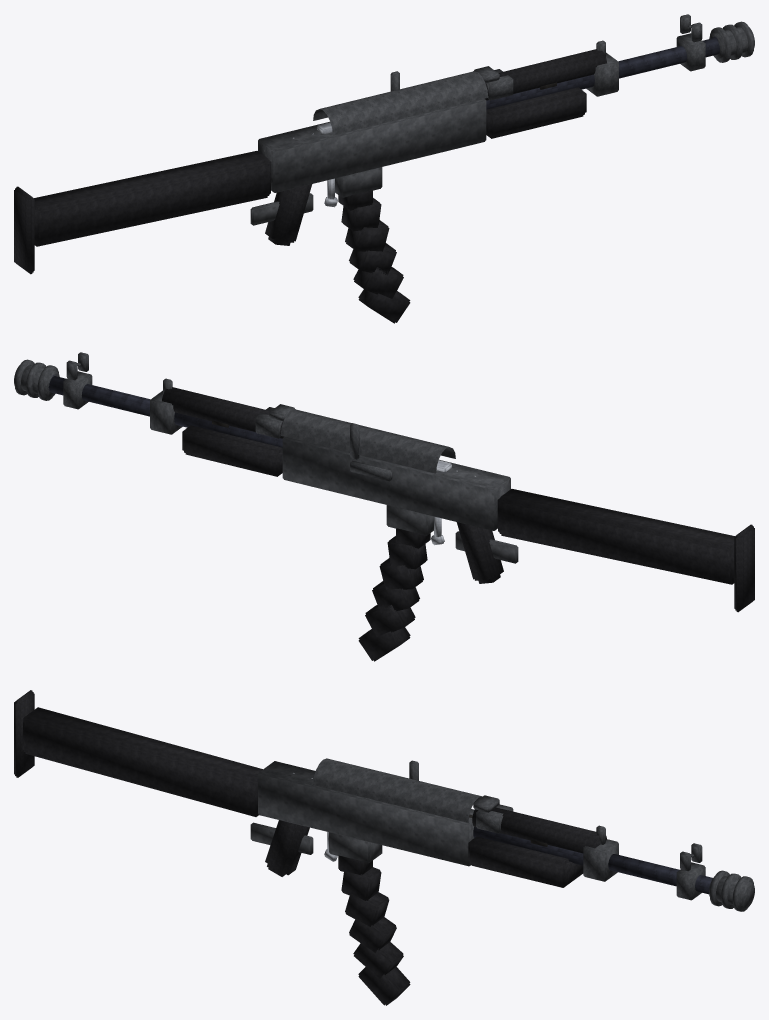
The picture shows the model from 3 angles, top to bottom: view 1: azimuth 30°, elevation 25°; view 2: azimuth 150°, elevation 25°; view 3: azimuth 330°, elevation 25°; orthographic projection.
Parts seen in each view (by area): view 1: Outer_Shell, Inner_Part_14, Inner_Part_1, Inner_Part_2, Inner_Part_8, Inner_Part_12, Inner_Part_7, Inner_Part_16, Inner_Part_15, Inner_Part_11, Inner_Part_10, Inner_Part_9 (+1 smaller); view 2: Inner_Part_14, Outer_Shell, Inner_Part_1, Inner_Part_2, Inner_Part_8, Inner_Part_12, Inner_Part_7, Inner_Part_16, Inner_Part_15, Inner_Part_11, Inner_Part_10, Inner_Part_9 (+2 smaller); view 3: Outer_Shell, Inner_Part_14, Inner_Part_1, Inner_Part_2, Inner_Part_8, Inner_Part_12, Inner_Part_7, Inner_Part_16, Inner_Part_11, Inner_Part_9, Inner_Part_10, Inner_Part_15 (+1 smaller).
Boxes of the visible parts, box(x1,y1,x2,y2) form: Outer_Shell: box(250, 98, 486, 225); Inner_Part_14: box(34, 151, 271, 246); Inner_Part_1: box(338, 190, 410, 323); Inner_Part_2: box(313, 71, 488, 135); Inner_Part_8: box(486, 87, 586, 138); Inner_Part_12: box(486, 36, 719, 109); Inner_Part_7: box(485, 49, 606, 100); Inner_Part_16: box(265, 184, 312, 245); Inner_Part_15: box(14, 186, 34, 274); Inner_Part_11: box(709, 21, 754, 62); Inner_Part_10: box(676, 14, 705, 71); Inner_Part_9: box(586, 40, 618, 96); Inner_Part_14: box(497, 489, 734, 584); Outer_Shell: box(282, 436, 518, 563); Inner_Part_1: box(358, 528, 430, 661); Inner_Part_2: box(280, 409, 455, 473); Inner_Part_8: box(182, 425, 282, 476); Inner_Part_12: box(48, 374, 282, 447); Inner_Part_7: box(162, 387, 283, 438); Inner_Part_16: box(456, 522, 503, 583); Inner_Part_15: box(734, 524, 754, 612); Inner_Part_11: box(14, 359, 59, 400); Inner_Part_10: box(63, 352, 92, 409); Inner_Part_9: box(150, 378, 182, 434); Outer_Shell: box(250, 761, 474, 866); Inner_Part_14: box(22, 707, 262, 816); Inner_Part_1: box(338, 855, 410, 1005); Inner_Part_2: box(313, 758, 482, 822); Inner_Part_8: box(468, 836, 583, 887); Inner_Part_12: box(473, 827, 712, 894); Inner_Part_7: box(472, 807, 606, 853); Inner_Part_16: box(265, 820, 309, 876); Inner_Part_11: box(709, 870, 754, 911); Inner_Part_9: box(583, 825, 618, 881); Inner_Part_10: box(676, 843, 705, 900); Inner_Part_15: box(14, 690, 34, 777).
Size of the model in its own units: 0.889 by 0.2767 by 0.05.
Materials: 5 (5 with a texture image).
